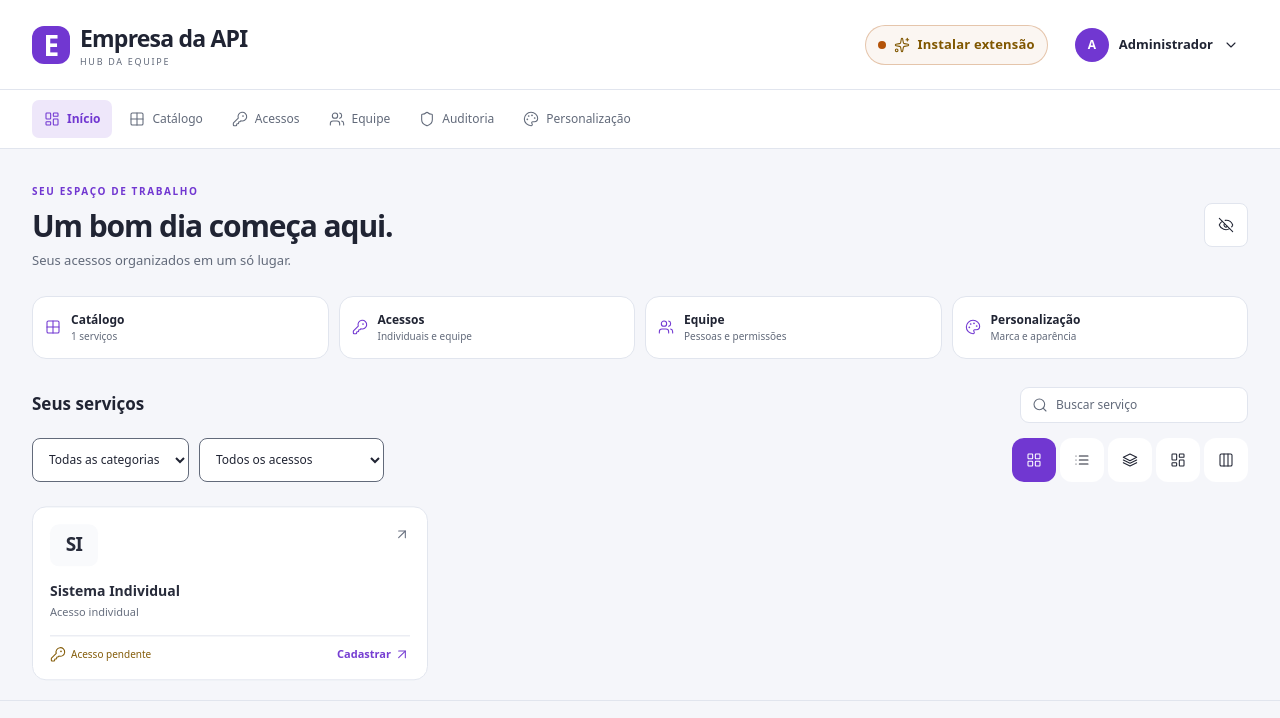
Test: API backed customization › opens individual setup modal on-demand when clicking an individual card without credentials
expect the text "Sistema Individual" is shown: met, box [50,581,180,600]
Click the button with aria-label "Cadastrar Sistema Individual": click(74, 545) [32,506,428,680]
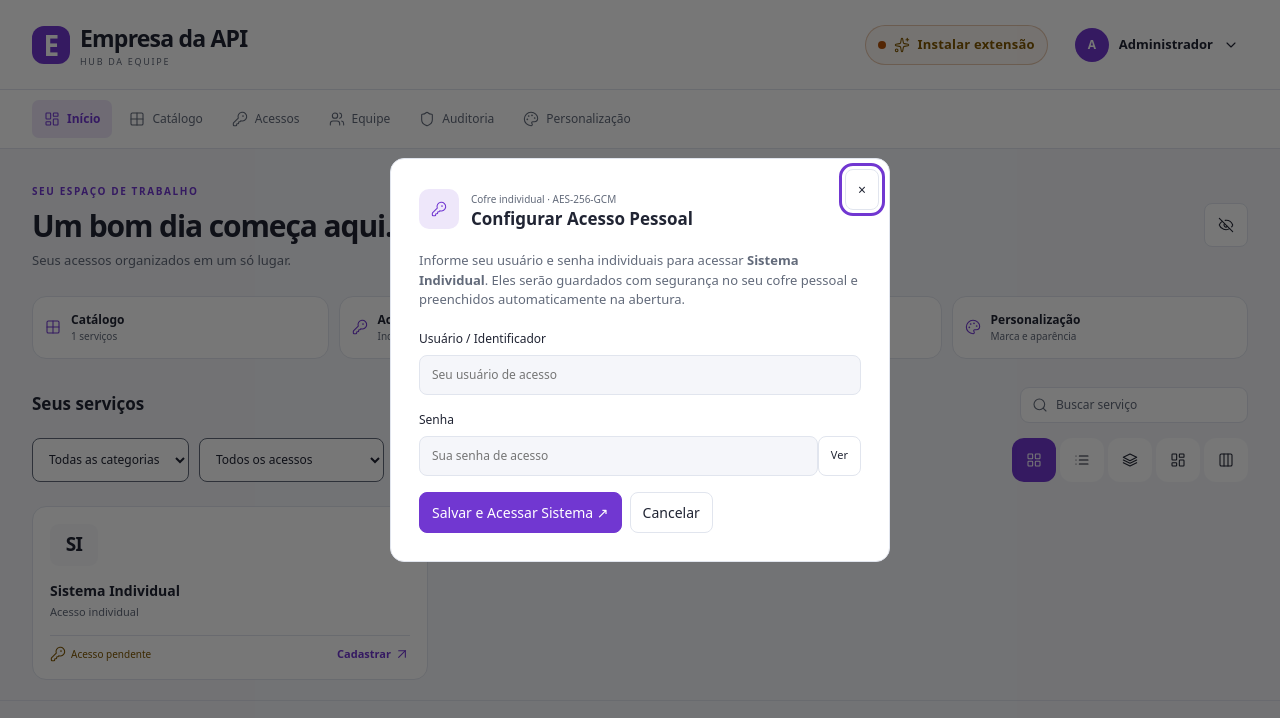
expect the heading "Configurar Acesso Pessoal" is shown: met, box [471,208,693,231]
expect the field labelled "Usuário / Identificador" is shown: met, box [419,355,861,395]
expect the password field labelled "Senha" is shown: met, box [419,436,818,476]
